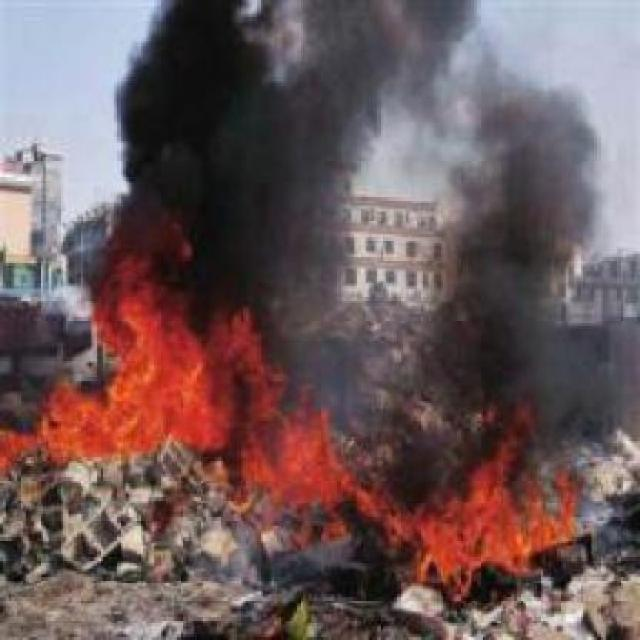Fire: (0, 213, 350, 498), (358, 408, 584, 597)
Smoke: (117, 0, 605, 210), (426, 210, 617, 400)
